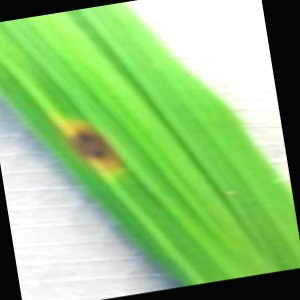Bacterial_Leaf_Blight: (55, 112, 129, 184)
